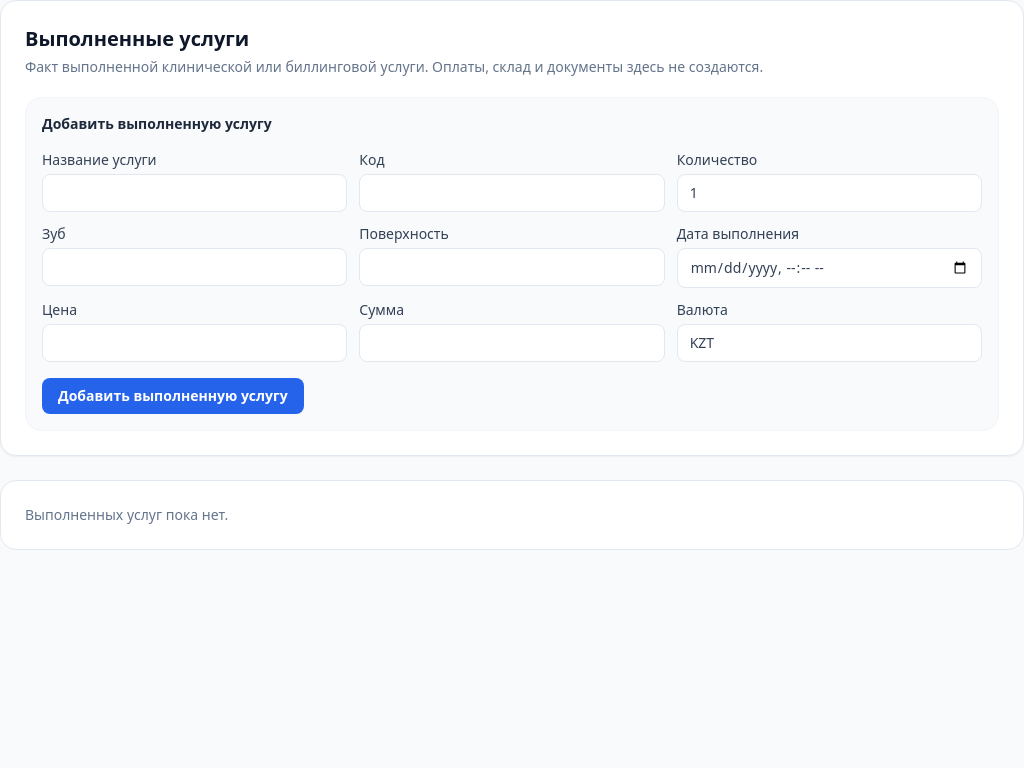
CompletedServicesPanel › record form validates required fields
This screenshot has width=1024, height=768.
Click the button with test id "completed-service-record-submit": (173, 396) [42, 378, 304, 414]
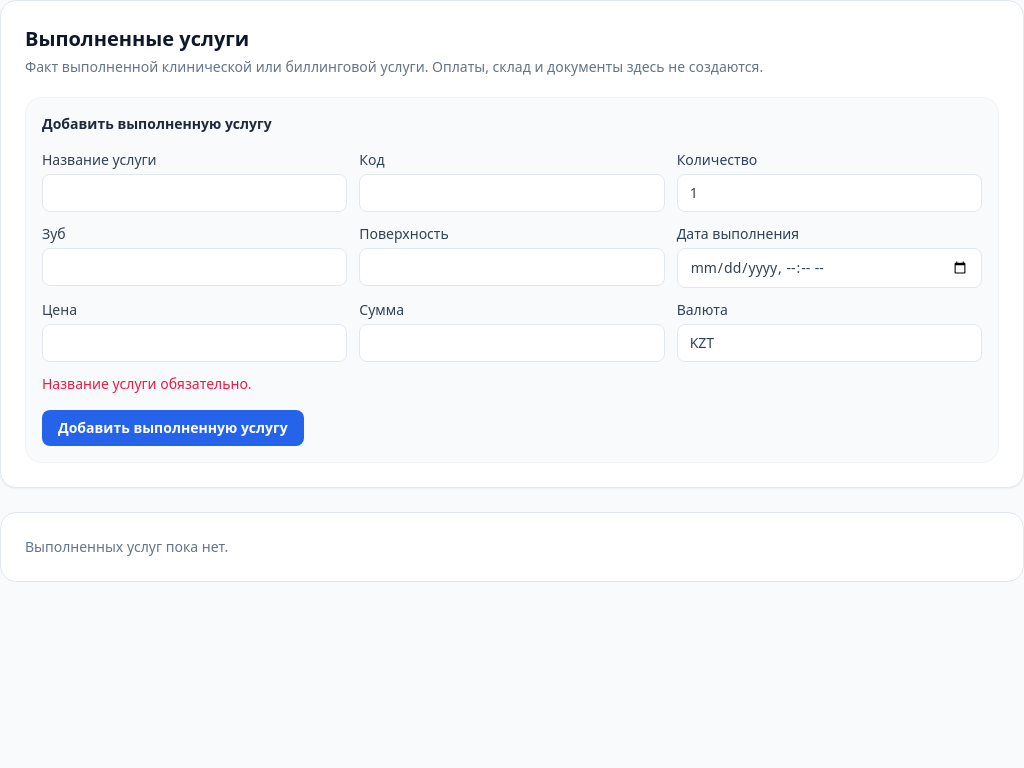
Expected: the text "Название услуги обязательно." is shown, [42, 374, 252, 393]
